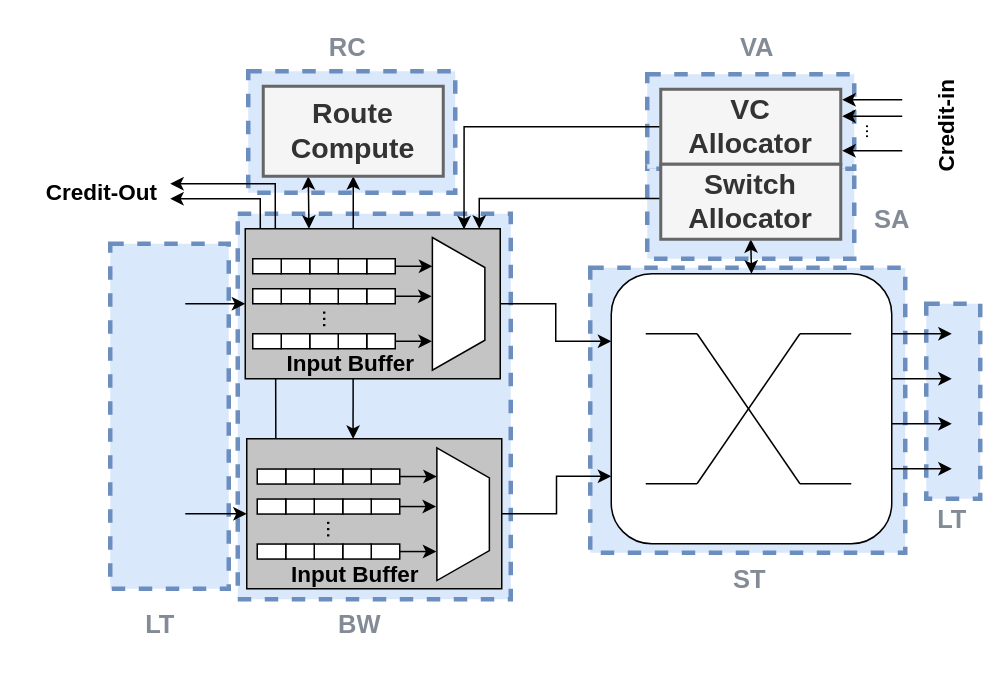
This 1008x674 diagram has some shape labels left out. The box of each missing label's shape, as (x1, y1, x2, y2) in pixels:
Buffer Write: (107, 241, 230, 590)
Crossbar: (610, 272, 892, 544)
